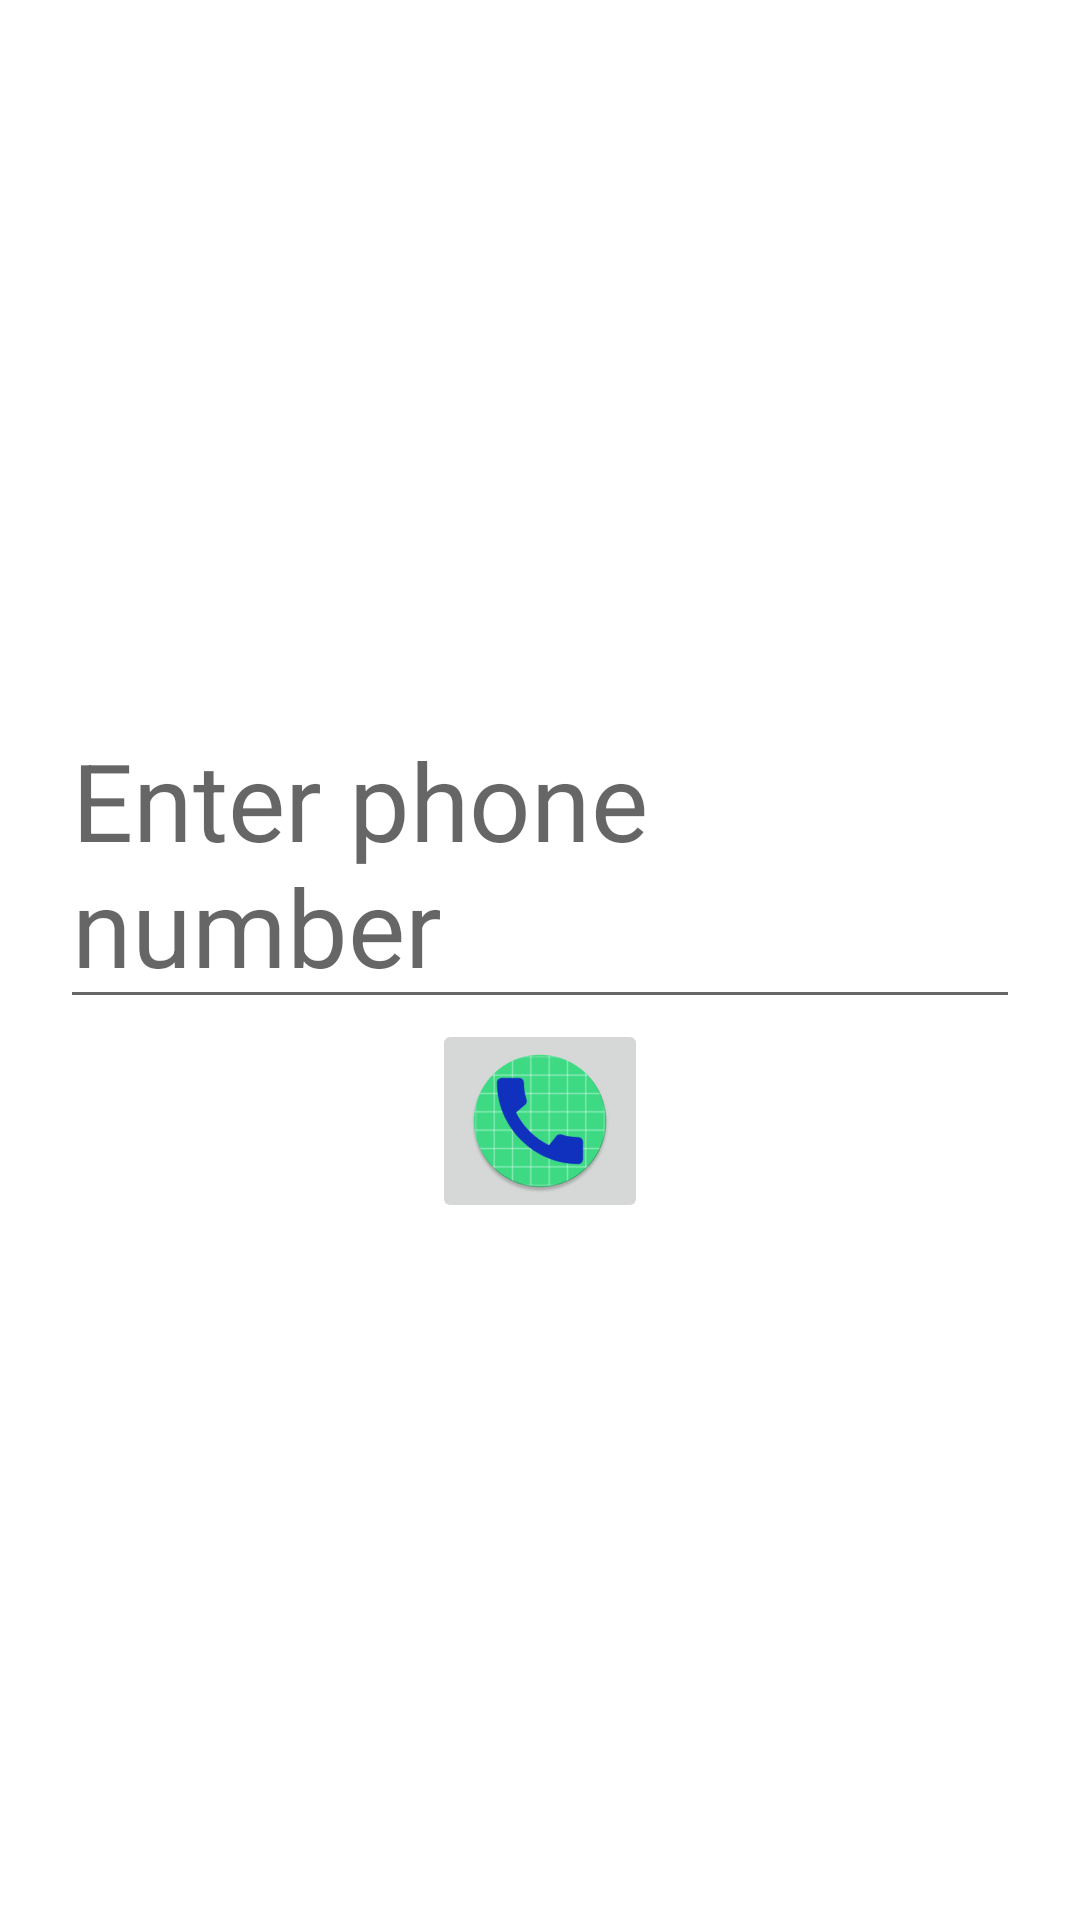

Point at icon controls on the screen. Image size 1080*1920, points as (x,y).
dial round: (540,1121)
